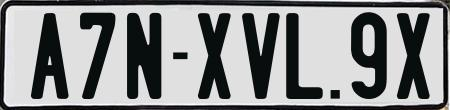7: (78, 13, 115, 101)
9: (351, 10, 388, 100)
A: (30, 10, 70, 99)
L: (283, 12, 323, 101)
N: (127, 11, 163, 101)
V: (241, 11, 285, 98)
X: (196, 12, 235, 99), (395, 11, 432, 102)
